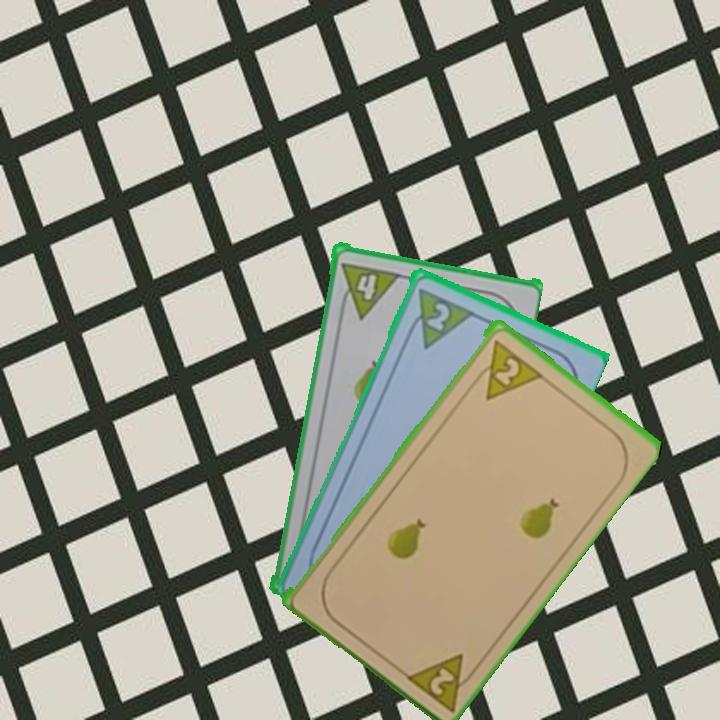2p: (399, 648, 483, 713), (468, 335, 544, 403), (401, 283, 474, 351)
4p: (335, 258, 401, 320)
